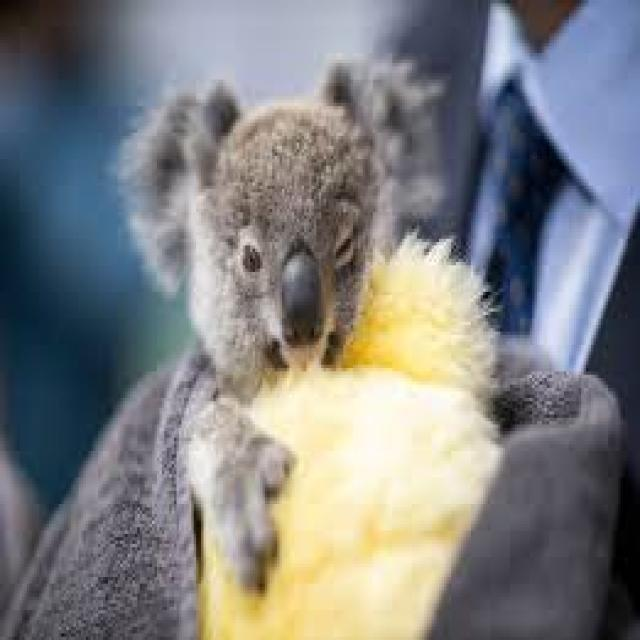Koala: (122, 52, 460, 586)
